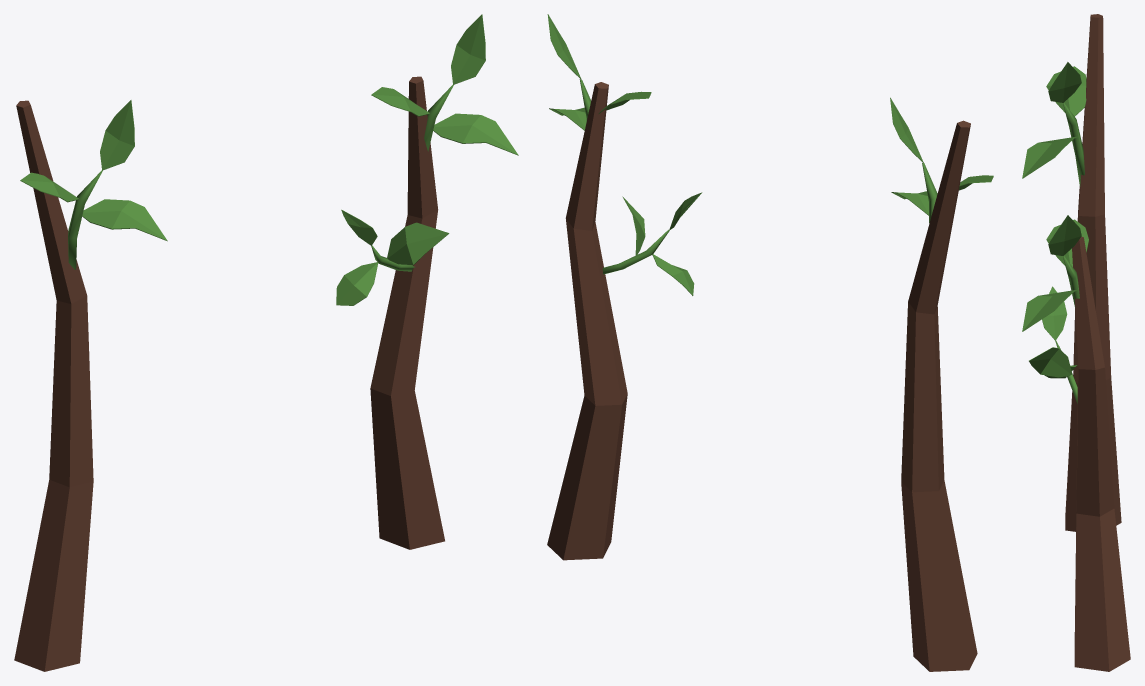
Rendered from Vetki.fbx.
The picture shows the model from 3 angles, left to right: view 1: azimuth 30°, elevation 25°; view 2: azimuth 150°, elevation 25°; view 3: azimuth 270°, elevation 25°; orthographic projection. The views are drawn at different scales.
Visible parts, largest first — view 1: Cylinder.006, Cylinder.005; view 2: Cylinder.006, Cylinder.005; view 3: Cylinder.005, Cylinder.006.
Boxes of the visible parts, x1,y1,x2,y2 form: Cylinder.006: (14, 100, 167, 671); Cylinder.005: (336, 14, 518, 549); Cylinder.006: (890, 97, 993, 671); Cylinder.005: (547, 14, 702, 560); Cylinder.005: (1022, 215, 1130, 671); Cylinder.006: (1022, 14, 1121, 531).
Bounding box in the file's own units: 268 × 304 × 60.15.
